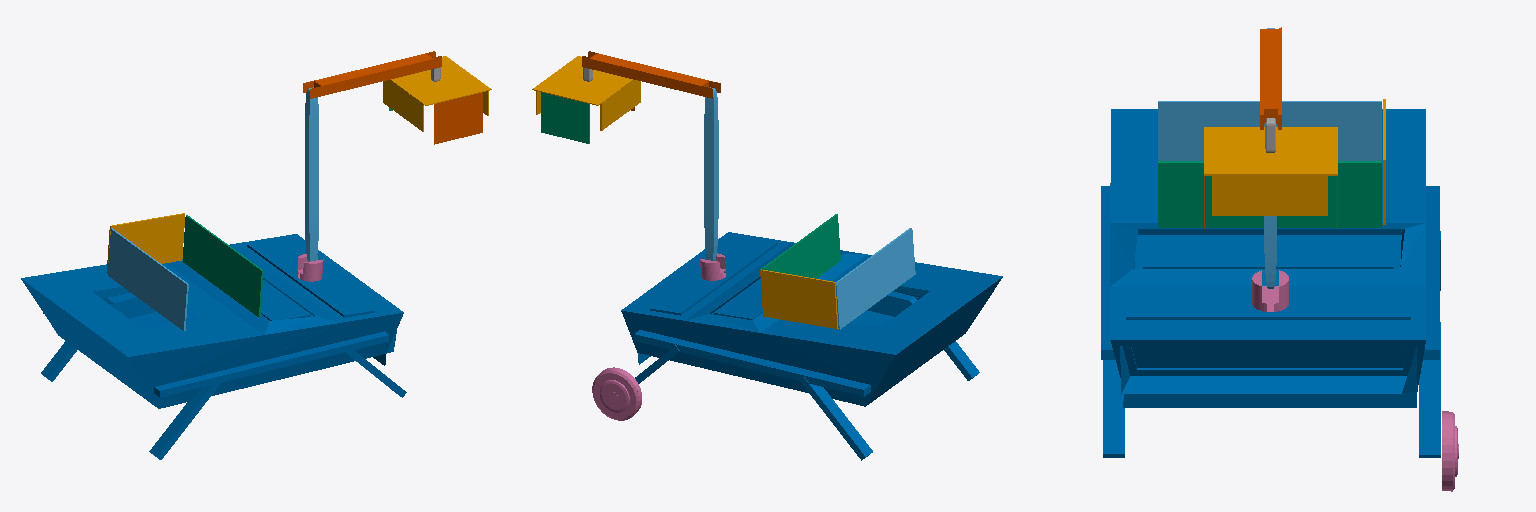
URDF robot description (ubot):
<?xml version="1.0"?>
<!-- created with Phobos 1.0.1 "Capricious Choutengan" -->
  <robot name="ubot">

    <link name="X1">
      <inertial>
        <origin xyz="0 0 0" rpy="0 0 0"/>
        <mass value="0.001"/>
        <inertia ixx="0.001" ixy="0" ixz="0" iyy="0.001" iyz="0" izz="0.001"/>
      </inertial>
      <visual name="Cube.004.000">
        <origin xyz="0 0 0" rpy="0 0 0"/>
        <geometry>
          <mesh filename="../meshes/dae/Cube.016.dae" scale="0.01 0.425 0.25"/>
        </geometry>
      </visual>
      <collision name="Cube.004.000.000">
        <origin xyz="0 0 0" rpy="0 0 0"/>
        <geometry>
          <mesh filename="../meshes/dae/Cube.041.dae" scale="1.0 1.0 1.0"/>
        </geometry>
      </collision>
    </link>

    <link name="X2">
      <inertial>
        <origin xyz="0 0 0" rpy="0 0 0"/>
        <mass value="0.001"/>
        <inertia ixx="0.001" ixy="0" ixz="0" iyy="0.001" iyz="0" izz="0.001"/>
      </inertial>
      <visual name="Cube.000.001.002">
        <origin xyz="0 0 0" rpy="0 0 0"/>
        <geometry>
          <mesh filename="../meshes/dae/Cube.015.dae" scale="0.01 0.75 0.25"/>
        </geometry>
      </visual>
      <collision name="Cube.000.001.002.000">
        <origin xyz="0 0 0" rpy="0 0 0"/>
        <geometry>
          <mesh filename="../meshes/dae/Cube.042.dae" scale="1.0 1.0 1.0"/>
        </geometry>
      </collision>
    </link>

    <link name="X3">
      <inertial>
        <origin xyz="0 0 0" rpy="0 0 0"/>
        <mass value="0.001"/>
        <inertia ixx="0.001" ixy="0" ixz="0" iyy="0.001" iyz="0" izz="0.001"/>
      </inertial>
      <visual name="Cube.003.000">
        <origin xyz="0 0 0" rpy="0 0 0"/>
        <geometry>
          <mesh filename="../meshes/dae/Cube.018.dae" scale="0.01 0.75 0.25"/>
        </geometry>
      </visual>
      <collision name="Cube.003.000.000">
        <origin xyz="0 0 0" rpy="0 0 0"/>
        <geometry>
          <mesh filename="../meshes/dae/Cube.043.dae" scale="1.0 1.0 1.0"/>
        </geometry>
      </collision>
    </link>

    <link name="X4">
      <inertial>
        <origin xyz="0 0 0" rpy="0 0 0"/>
        <mass value="0.001"/>
        <inertia ixx="0.001" ixy="0" ixz="0" iyy="0.001" iyz="0" izz="0.001"/>
      </inertial>
      <collision name="Cube.001.000">
        <origin xyz="0 0 0" rpy="0 0 0"/>
        <geometry>
          <mesh filename="../meshes/dae/Cube.017.dae" scale="0.01 0.425 0.25"/>
        </geometry>
      </collision>
    </link>

    <link name="chasis">
      <inertial>
        <origin xyz="0 0 0" rpy="0 0 0"/>
        <mass value="1000"/>
        <inertia ixx="0.001" ixy="0" ixz="0" iyy="0.001" iyz="0" izz="0.001"/>
      </inertial>
      <visual name="Cube.000">
        <origin xyz="-0.0052 0.02539 0.38337" rpy="0 0 0"/>
        <geometry>
          <mesh filename="../meshes/dae/Cube.000.dae" scale="1.0 1.0 1.0"/>
        </geometry>
      </visual>
      <collision name="Cube.000.000">
        <origin xyz="-0.0036 0.03044 0.37389" rpy="0 0 0"/>
        <geometry>
          <mesh filename="../meshes/dae/Cube.001.dae" scale="1.0 1.0 1.0"/>
        </geometry>
      </collision>
    </link>

    <link name="link_foreamr">
      <inertial>
        <origin xyz="0 0 0" rpy="0 0 0"/>
        <mass value="0.001"/>
        <inertia ixx="0.001" ixy="0" ixz="0" iyy="0.001" iyz="0" izz="0.001"/>
      </inertial>
      <visual name="Forearm.000">
        <origin xyz="0 -0.69 0" rpy="-1.5708 0 0"/>
        <geometry>
          <mesh filename="../meshes/dae/Cube.002.dae" scale="1.0 1.0 1.0"/>
        </geometry>
      </visual>
      <collision name="Forearm.000.000">
        <origin xyz="0.00012 -0.69 0" rpy="-1.5708 0 0"/>
        <geometry>
          <mesh filename="../meshes/dae/Cube.022.dae" scale="1.0 1.0 1.0"/>
        </geometry>
      </collision>
    </link>

    <link name="link_front_left_wheel">
      <inertial>
        <origin xyz="0 0 0" rpy="0 0 0"/>
        <mass value="1"/>
        <inertia ixx="0.001" ixy="0" ixz="0" iyy="0.001" iyz="0" izz="0.001"/>
      </inertial>
      <visual name="Cylinder.004">
        <origin xyz="-0.00027 0.00049 -0.00119" rpy="0 0 0"/>
        <geometry>
          <mesh filename="../meshes/dae/Cylinder.006.dae" scale="0.26793 0.26864 0.21329"/>
        </geometry>
      </visual>
      <collision name="Cylinder.004.000">
        <origin xyz="0 0 0" rpy="0 0 0"/>
        <geometry>
          <mesh filename="../meshes/dae/Cylinder.015.dae" scale="1.0 1.0 1.0"/>
        </geometry>
      </collision>
    </link>

    <link name="link_front_right_wheel">
      <inertial>
        <origin xyz="0 0 0" rpy="0 0 0"/>
        <mass value="1"/>
        <inertia ixx="0.001" ixy="0" ixz="0" iyy="0.001" iyz="0" izz="0.001"/>
      </inertial>
      <collision name="Cylinder.005.000">
        <origin xyz="0 0 0.22" rpy="0 -3.14159 0"/>
        <geometry>
          <mesh filename="../meshes/dae/Cylinder.009.dae" scale="1.0 1.0 1.0"/>
        </geometry>
      </collision>
    </link>

    <link name="link_hand">
      <inertial>
        <origin xyz="0 0 0" rpy="0 0 0"/>
        <mass value="1"/>
        <inertia ixx="0.001" ixy="0" ixz="0" iyy="0.001" iyz="0" izz="0.001"/>
      </inertial>
      <visual name="Hand.000">
        <origin xyz="0 0 0" rpy="0 3.14159 0"/>
        <geometry>
          <mesh filename="../meshes/dae/Cube.011.dae" scale="1.49878 1.8 1.0"/>
        </geometry>
      </visual>
    </link>

    <link name="link_humerus">
      <inertial>
        <origin xyz="0 0 0" rpy="0 0 0"/>
        <mass value="1"/>
        <inertia ixx="0.001" ixy="0" ixz="0" iyy="0.001" iyz="0" izz="0.001"/>
      </inertial>
      <visual name="Humerus">
        <origin xyz="0 0.96 0" rpy="-1.5708 0 0"/>
        <geometry>
          <mesh filename="../meshes/dae/Cube.007.dae" scale="0.055 0.045 0.95"/>
        </geometry>
      </visual>
      <collision name="Humerus.000">
        <origin xyz="0 0.96 0" rpy="-1.5708 0 0"/>
        <geometry>
          <mesh filename="../meshes/dae/Cube.008.dae" scale="1.0 1.0 1.0"/>
        </geometry>
      </collision>
    </link>

    <link name="link_left_finger">
      <inertial>
        <origin xyz="0 0 0" rpy="0 0 0"/>
        <mass value="1"/>
        <inertia ixx="0.001" ixy="0" ixz="0" iyy="0.001" iyz="0" izz="0.001"/>
      </inertial>
      <visual name="Cube.000.001">
        <origin xyz="0.00014 0.14 -0.00028" rpy="1.56881 0.00053 -0.00102"/>
        <geometry>
          <mesh filename="../meshes/dae/Cube.013.dae" scale="1.0 1.0 2.75"/>
        </geometry>
      </visual>
      <collision name="Cube.000.001.000">
        <origin xyz="0.00014 0.14 -0.00028" rpy="1.56881 0.00053 -0.00102"/>
        <geometry>
          <mesh filename="../meshes/dae/Cube.003.dae" scale="1.0 1.0 1.46667"/>
        </geometry>
      </collision>
    </link>

    <link name="link_rear_left_wheel">
      <inertial>
        <origin xyz="0 0 0" rpy="0 0 0"/>
        <mass value="0.1"/>
        <inertia ixx="0.001" ixy="0" ixz="0" iyy="0.001" iyz="0" izz="0.001"/>
      </inertial>
      <collision name="tmp_export_666.001">
        <origin xyz="0 0 0" rpy="0 0 0"/>
        <geometry>
          <mesh filename="../meshes/dae/Cylinder.013.dae" scale="1.0 1.0 1.0"/>
        </geometry>
      </collision>
    </link>

    <link name="link_rear_right_wheel">
      <inertial>
        <origin xyz="0 0 0" rpy="0 0 0"/>
        <mass value="0.1"/>
        <inertia ixx="0.001" ixy="0" ixz="0" iyy="0.001" iyz="0" izz="0.001"/>
      </inertial>
      <collision name="Cylinder.006.000">
        <origin xyz="0.00043 -0.003 0.21998" rpy="-0.01365 -3.13979 0.00954"/>
        <geometry>
          <mesh filename="../meshes/dae/Cylinder.011.dae" scale="1.0 1.0 1.0"/>
        </geometry>
      </collision>
    </link>

    <link name="link_right_finger">
      <inertial>
        <origin xyz="0 0 0" rpy="0 0 0"/>
        <mass value="1"/>
        <inertia ixx="0.001" ixy="0" ixz="0" iyy="0.001" iyz="0" izz="0.001"/>
      </inertial>
      <visual name="Cube.002">
        <origin xyz="0 -0.14 0" rpy="-1.5708 0 0"/>
        <geometry>
          <mesh filename="../meshes/dae/Cube.012.dae" scale="0.275 0.005 0.22"/>
        </geometry>
      </visual>
      <collision name="Cube.002.000">
        <origin xyz="0 -0.14 0" rpy="-1.5708 0 0"/>
        <geometry>
          <mesh filename="../meshes/dae/Cube.014.dae" scale="1.0 1.0 2.75"/>
        </geometry>
      </collision>
    </link>

    <link name="link_shoulder">
      <inertial>
        <origin xyz="0 0 0" rpy="0 0 0"/>
        <mass value="1"/>
        <inertia ixx="0.001" ixy="0" ixz="0" iyy="0.001" iyz="0" izz="0.001"/>
      </inertial>
      <visual name="shoulder.000">
        <origin xyz="0 0 0" rpy="0 0 0"/>
        <geometry>
          <mesh filename="../meshes/dae/Cylinder.005.dae" scale="0.125 0.125 0.095"/>
        </geometry>
      </visual>
      <collision name="shoulder.000.000">
        <origin xyz="0 0 0" rpy="0 0 0"/>
        <geometry>
          <mesh filename="../meshes/dae/Cylinder.002.dae" scale="1.0 1.0 1.0"/>
        </geometry>
      </collision>
    </link>

    <link name="link_wrist">
      <inertial>
        <origin xyz="0 0 0" rpy="0 0 0"/>
        <mass value="1"/>
        <inertia ixx="0.001" ixy="0" ixz="0" iyy="0.001" iyz="0" izz="0.001"/>
      </inertial>
      <visual name="Wrist.000.001">
        <origin xyz="0 -0.08 0" rpy="-1.5708 0 0"/>
        <geometry>
          <mesh filename="../meshes/dae/Cube.010.dae" scale="1.0 1.0 1.0"/>
        </geometry>
      </visual>
      <collision name="Wrist.000.001.000">
        <origin xyz="0 -0.08 0" rpy="-1.5708 0 0"/>
        <geometry>
          <mesh filename="../meshes/dae/Cube.023.dae" scale="1.0 1.0 1.0"/>
        </geometry>
      </collision>
    </link>

    <joint name="X1" type="floating">
      <origin xyz="-0.73657 0.79033 0.27768" rpy="0.06981 0 1.5708"/>
      <parent link="chasis"/>
      <child link="X1"/>
    </joint>

    <joint name="X2" type="floating">
      <origin xyz="-1.15657 0.02033 0.28768" rpy="0 0.07854 0"/>
      <parent link="chasis"/>
      <child link="X2"/>
    </joint>

    <joint name="X3" type="floating">
      <origin xyz="-0.30657 0.02033 0.23768" rpy="0 0.06981 0"/>
      <parent link="chasis"/>
      <child link="X3"/>
    </joint>

    <joint name="X4" type="floating">
      <origin xyz="-0.73657 -0.74967 0.27768" rpy="0.06981 0 1.5708"/>
      <parent link="chasis"/>
      <child link="X4"/>
    </joint>

    <joint name="link_foreamr" type="continuous">
      <origin xyz="-0.00276 1.89983 0" rpy="0 0 1.5708"/>
      <parent link="link_humerus"/>
      <child link="link_foreamr"/>
      <axis xyz="0 0 1.0"/>
      <limit effort="0" velocity="0"/>
    </joint>

    <joint name="link_front_left_wheel" type="continuous">
      <origin xyz="1.09369 1.05151 -1.01183" rpy="-1.5708 0 0"/>
      <parent link="chasis"/>
      <child link="link_front_left_wheel"/>
      <axis xyz="0 0 1.0"/>
      <limit effort="0" velocity="0"/>
    </joint>

    <joint name="link_front_right_wheel" type="continuous">
      <origin xyz="1.09316 -1.20086 -1.01183" rpy="-1.5708 0 0"/>
      <parent link="chasis"/>
      <child link="link_front_right_wheel"/>
      <axis xyz="0 0 1.0"/>
      <limit effort="0" velocity="0"/>
    </joint>

    <joint name="link_hand" type="continuous">
      <origin xyz="0 -0.19855 0" rpy="-1.5708 0 -3.14159"/>
      <parent link="link_wrist"/>
      <child link="link_hand"/>
      <axis xyz="0 0 1.0"/>
      <limit effort="0" velocity="0"/>
    </joint>

    <joint name="link_humerus" type="continuous">
      <origin xyz="0.01768 0 0.02747" rpy="1.5708 -0.08203 0"/>
      <parent link="link_shoulder"/>
      <child link="link_humerus"/>
      <axis xyz="0 0 1.0"/>
      <limit effort="0" velocity="0"/>
    </joint>

    <joint name="link_left_finger" type="prismatic">
      <origin xyz="0 0.44494 0.085" rpy="-1.56881 -3.14057 -0.00053"/>
      <parent link="link_hand"/>
      <child link="link_left_finger"/>
      <axis xyz="0 0 1.0"/>
      <limit lower="-0.5" upper="0" effort="5000000000.0" velocity="0"/>
    </joint>

    <joint name="link_rear_left_wheel" type="continuous">
      <origin xyz="-1.65684 1.04151 -1.10201" rpy="1.5708 0 3.14159"/>
      <parent link="chasis"/>
      <child link="link_rear_left_wheel"/>
      <axis xyz="0 0 1.0"/>
      <limit effort="0" velocity="0"/>
    </joint>

    <joint name="link_rear_right_wheel" type="continuous">
      <origin xyz="-1.65684 -1.20086 -1.06183" rpy="-1.58444 -0.00952 0.00193"/>
      <parent link="chasis"/>
      <child link="link_rear_right_wheel"/>
      <axis xyz="0 0 1.0"/>
      <limit effort="0" velocity="0"/>
    </joint>

    <joint name="link_right_finger" type="prismatic">
      <origin xyz="0 -0.44506 0.085" rpy="1.5708 -3.14159 0"/>
      <parent link="link_hand"/>
      <child link="link_right_finger"/>
      <axis xyz="0 0 1.0"/>
      <limit lower="-0.5" upper="0" effort="5000000000.0" velocity="0"/>
    </joint>

    <joint name="link_shoulder" type="continuous">
      <origin xyz="0.68631 0.02539 -0.01232" rpy="0 0.08203 0"/>
      <parent link="chasis"/>
      <child link="link_shoulder"/>
      <axis xyz="0 0 1.0"/>
      <limit effort="0" velocity="0"/>
    </joint>

    <joint name="link_wrist" type="continuous">
      <origin xyz="-0.03221 -1.40749 0" rpy="0 0 -1.5708"/>
      <parent link="link_foreamr"/>
      <child link="link_wrist"/>
      <axis xyz="0 0 1.0"/>
      <limit effort="0" velocity="0"/>
    </joint>

  </robot>

--- Render facts (derived) ---
3 views of the same robot in one strip: view 1: azimuth 30°, elevation 25°; view 2: azimuth 150°, elevation 25°; view 3: azimuth 270°, elevation 25° (orthographic).
Model ubot with 16 links and 15 joints (9 continuous, 2 prismatic, 4 floating), rooted at chasis, posed every joint at zero.
Links seen in each view (by area): view 1: chasis, X2, X3, link_hand, X1, link_foreamr, link_humerus, link_right_finger, link_shoulder; view 2: chasis, X2, X1, link_hand, X3, link_humerus, link_foreamr, link_front_left_wheel, link_left_finger, link_shoulder; view 3: chasis, link_hand, X2, X3, link_foreamr, link_front_left_wheel, link_shoulder, link_humerus.
Link boxes in pixels (bbox=[...]): chasis: bbox=[21, 234, 406, 459]; X2: bbox=[108, 228, 188, 330]; X3: bbox=[183, 215, 263, 317]; link_hand: bbox=[383, 56, 491, 131]; X1: bbox=[107, 213, 184, 272]; link_foreamr: bbox=[303, 51, 441, 98]; link_humerus: bbox=[305, 87, 318, 261]; link_right_finger: bbox=[434, 92, 482, 144]; link_shoulder: bbox=[297, 254, 323, 281]; chasis: bbox=[621, 232, 1002, 460]; X2: bbox=[836, 228, 915, 329]; X1: bbox=[760, 269, 838, 328]; link_hand: bbox=[532, 56, 640, 130]; X3: bbox=[760, 214, 840, 278]; link_humerus: bbox=[704, 87, 718, 260]; link_foreamr: bbox=[582, 51, 720, 98]; link_front_left_wheel: bbox=[592, 367, 641, 420]; link_left_finger: bbox=[541, 92, 589, 143]; link_shoulder: bbox=[700, 253, 725, 280]; chasis: bbox=[1101, 109, 1440, 457]; link_hand: bbox=[1204, 127, 1337, 215]; X2: bbox=[1158, 101, 1381, 160]; X3: bbox=[1158, 161, 1381, 227]; link_foreamr: bbox=[1260, 27, 1281, 129]; link_front_left_wheel: bbox=[1442, 411, 1458, 491]; link_shoulder: bbox=[1252, 270, 1288, 311]; link_humerus: bbox=[1264, 28, 1276, 288].
Bounding box of the posed robot: 4.49 × 2.4 × 3.25 m (x, y, z).
Meshes: 12 distinct files referenced, 12 mesh visuals loaded (12 Collada DAE).